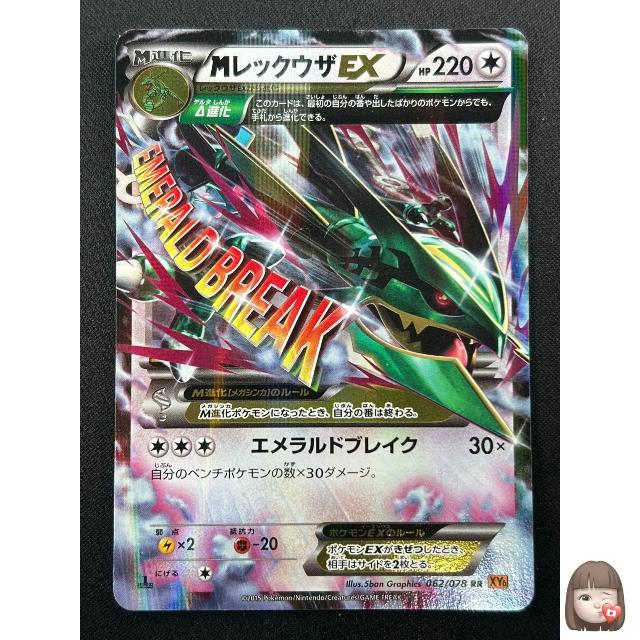Card: (109, 20, 542, 617)
Name: (207, 46, 386, 81)
